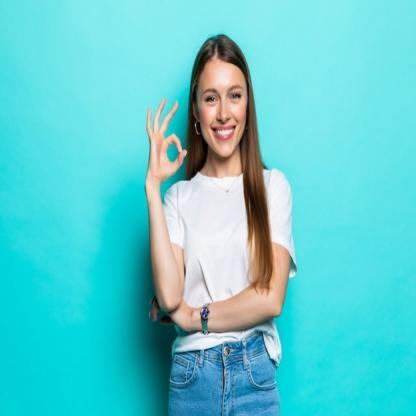ok: (142, 93, 190, 183)
